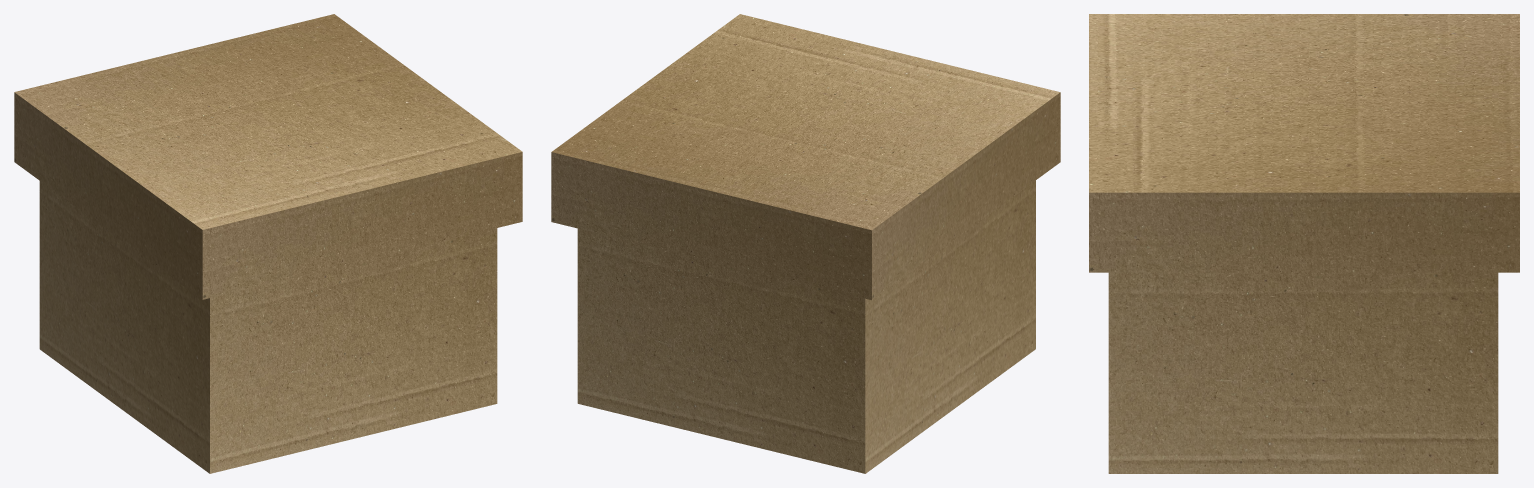
Rendered from Caja HappyToyShop.fbx.
3 views of the same model, side by side, from view 1: azimuth 30°, elevation 25°; view 2: azimuth 150°, elevation 25°; view 3: azimuth 270°, elevation 25° (orthographic). The views are drawn at different scales.
Parts seen in each view (by area): view 1: Caja de Juguetes; view 2: Caja de Juguetes; view 3: Caja de Juguetes.
Part boxes in pixels (<box>): Caja de Juguetes: <box>14,14,522,473</box>; Caja de Juguetes: <box>551,14,1060,473</box>; Caja de Juguetes: <box>1089,14,1519,473</box>.
Size of the model in its own units: 86.32 by 87.95 by 65.48.
Materials: 1 (1 with a texture image).
